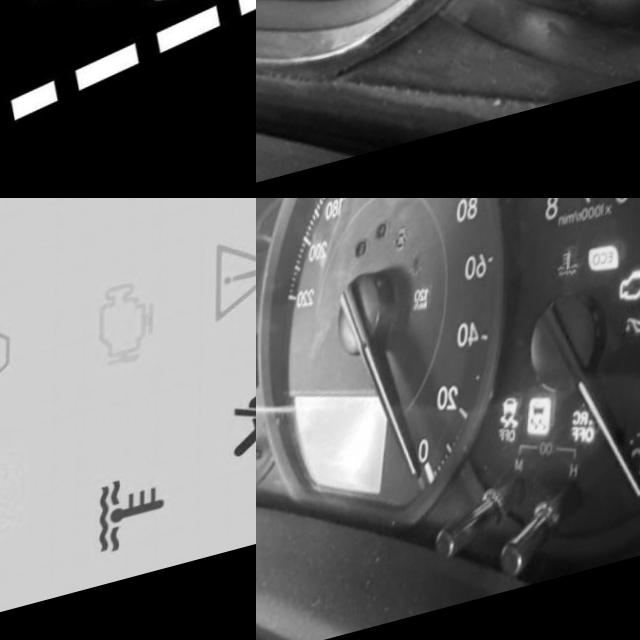High Engine Coolant Temperature: (555, 268, 582, 307)
